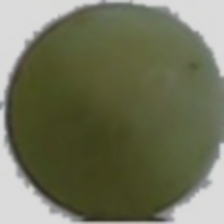grapes: (7, 27, 181, 191)
